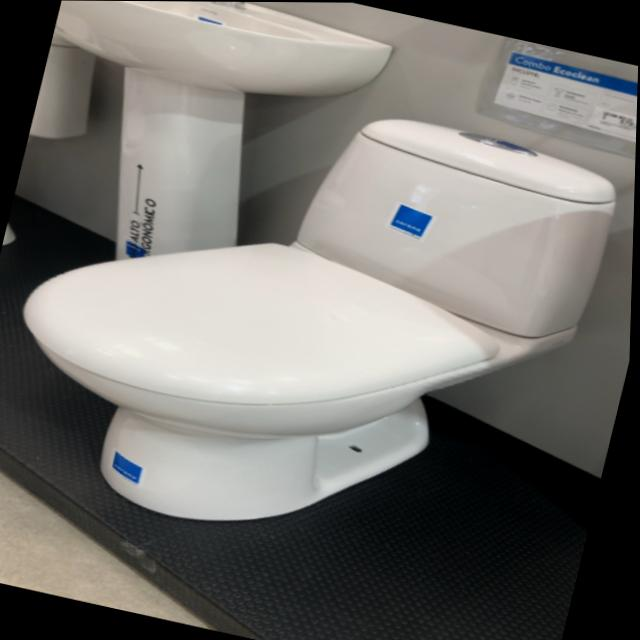toilet: (0, 44, 629, 593)
